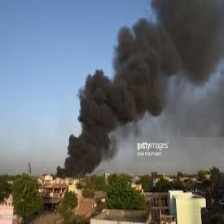smoke: (59, 2, 221, 176)
